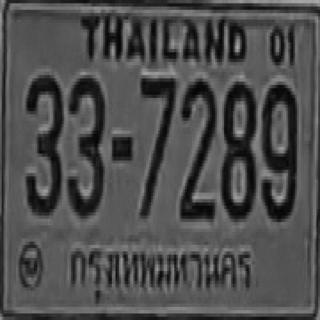N02: (179, 77, 216, 217)
N03: (25, 72, 62, 212), (66, 74, 103, 214)
N07: (139, 75, 174, 216)
N08: (220, 78, 254, 216)
N09: (261, 82, 295, 219)
P04: (63, 234, 258, 311)
